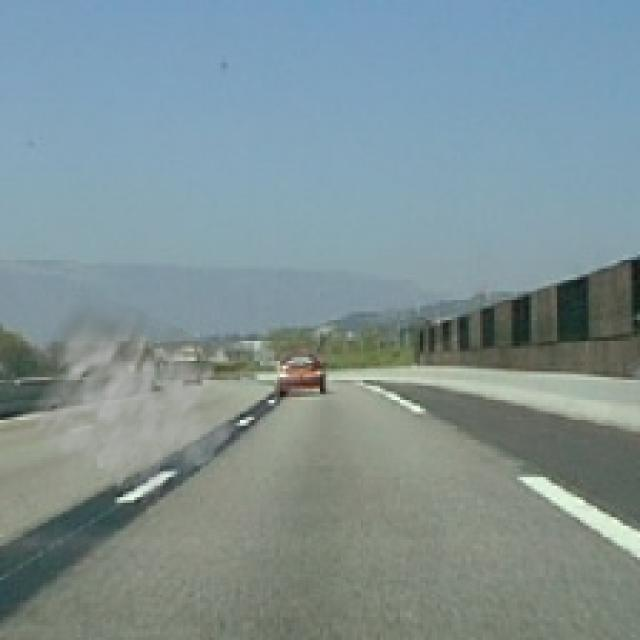smoke: (17, 288, 249, 506)
